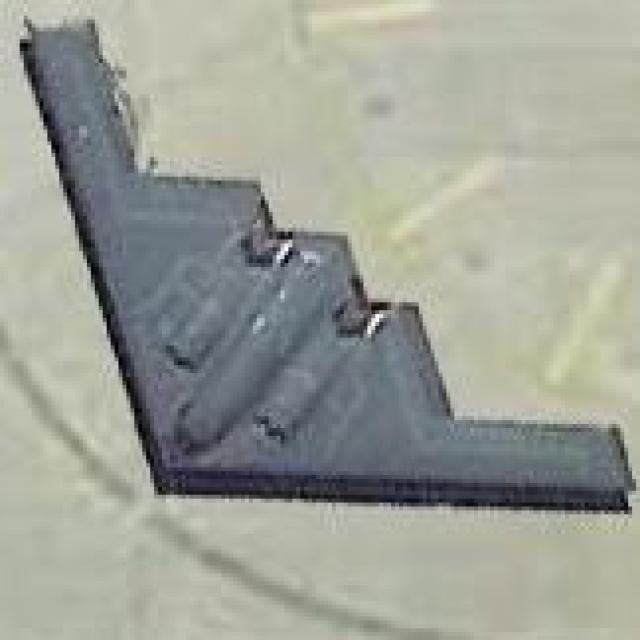B-2_TopDown: (12, 8, 636, 518)
